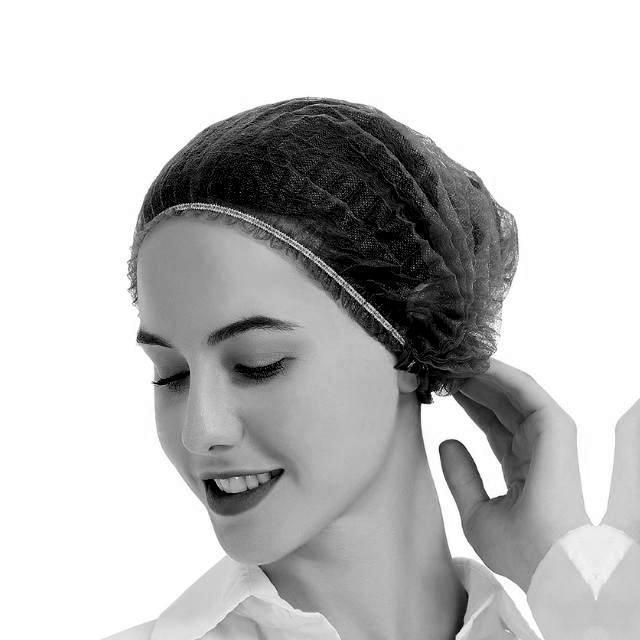gloves: (142, 125, 532, 361)
